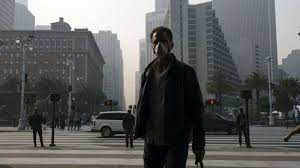mask: (144, 23, 177, 60)
